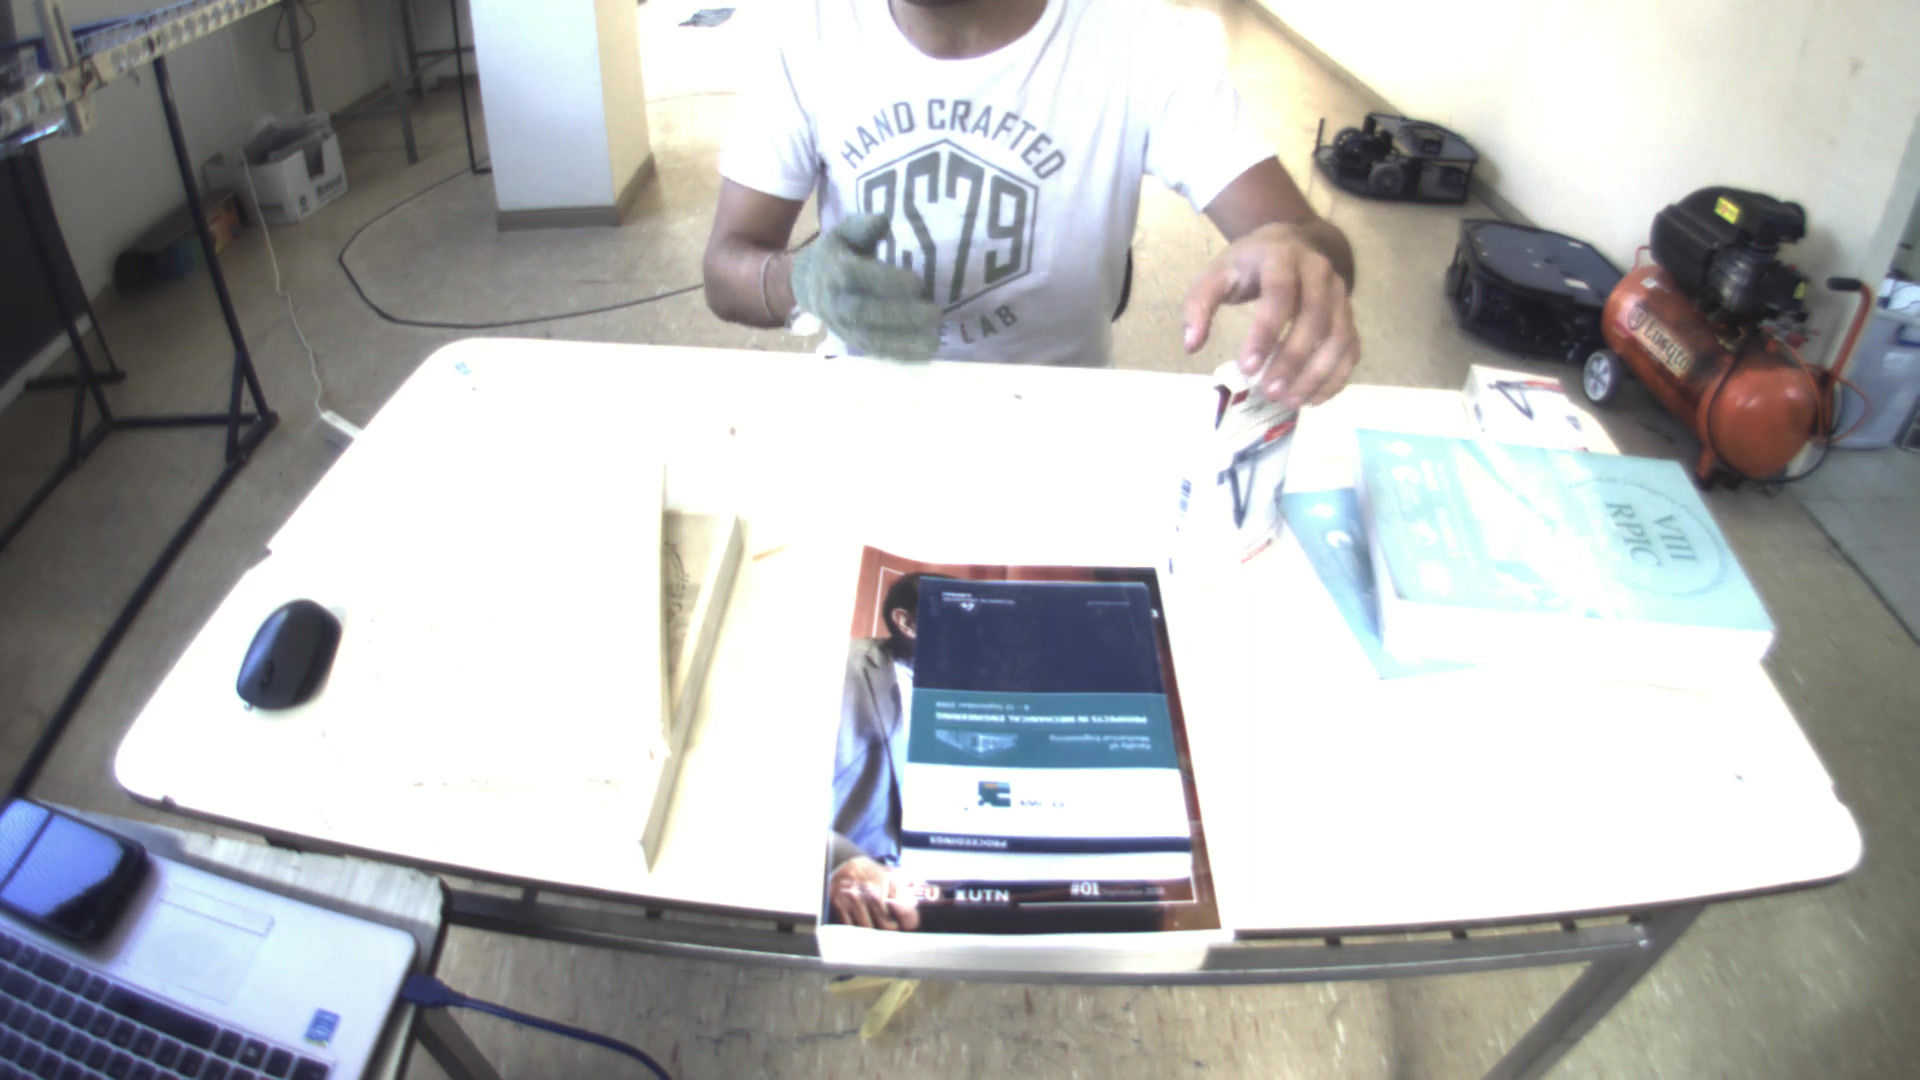hand: (1180, 212, 1378, 417), (781, 200, 945, 363)
